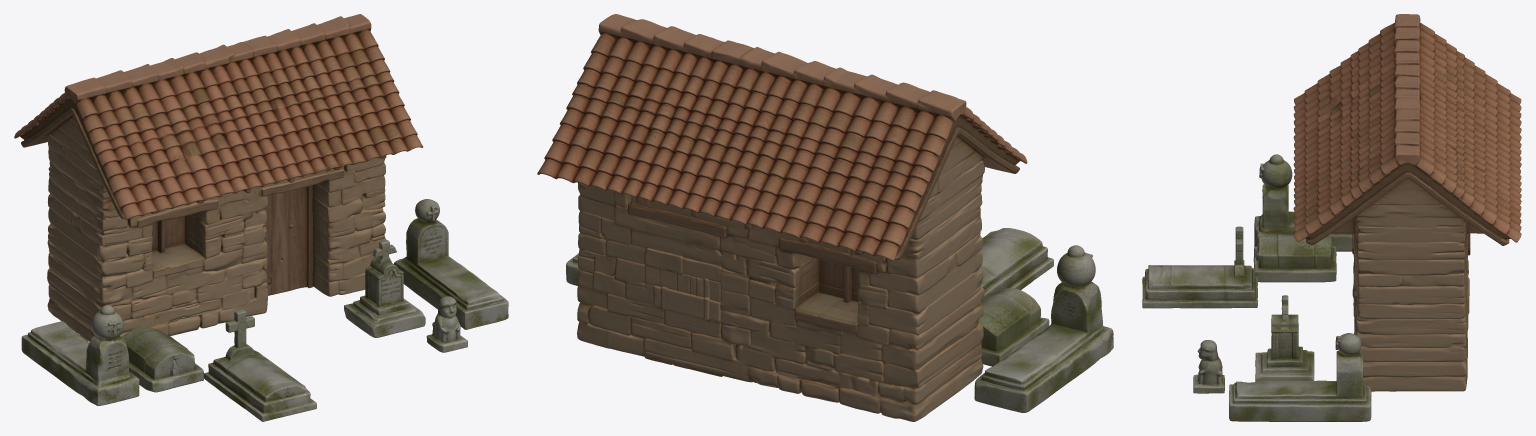
File: 61-el-cementerio-de-los-inocentes-optimized.glb
The picture shows the model from 3 angles, left to right: view 1: azimuth 30°, elevation 25°; view 2: azimuth 150°, elevation 25°; view 3: azimuth 270°, elevation 25°; orthographic projection. The views are drawn at different scales.
Parts seen in each view (by area): view 1: tripo_node_71ff3a81-fea2-4eaa-b721-7b60aa17ee86; view 2: tripo_node_71ff3a81-fea2-4eaa-b721-7b60aa17ee86; view 3: tripo_node_71ff3a81-fea2-4eaa-b721-7b60aa17ee86.
Part boxes in pixels (<box>): tripo_node_71ff3a81-fea2-4eaa-b721-7b60aa17ee86: <box>14,14,508,421</box>; tripo_node_71ff3a81-fea2-4eaa-b721-7b60aa17ee86: <box>537,14,1113,421</box>; tripo_node_71ff3a81-fea2-4eaa-b721-7b60aa17ee86: <box>1142,14,1521,421</box>.
Bounding box in the file's own units: 1 × 0.5952 × 0.8342.
Materials: 1 (1 with a texture image).
